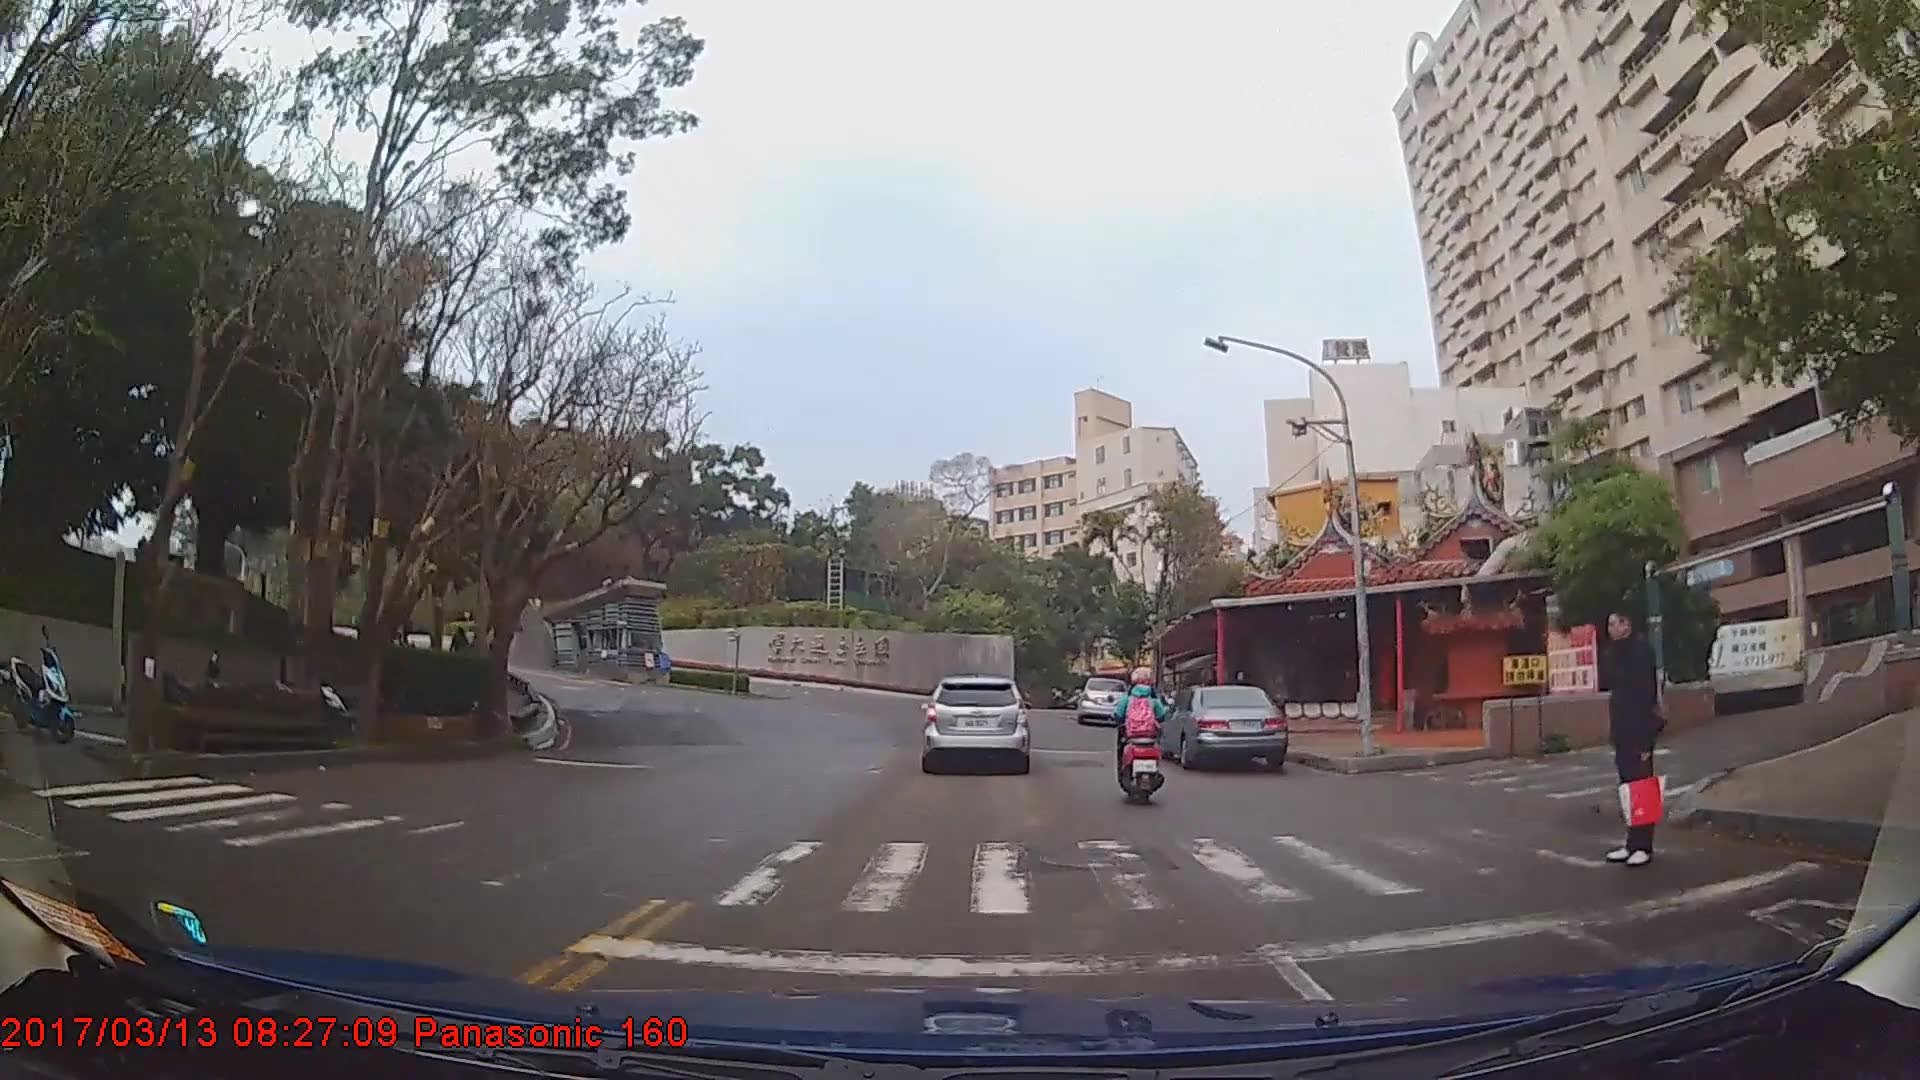pedestrian: (1595, 603, 1670, 868)
rider: (1113, 665, 1175, 811)
vehicle: (1158, 684, 1287, 769), (922, 670, 1029, 770), (1074, 675, 1125, 722)
